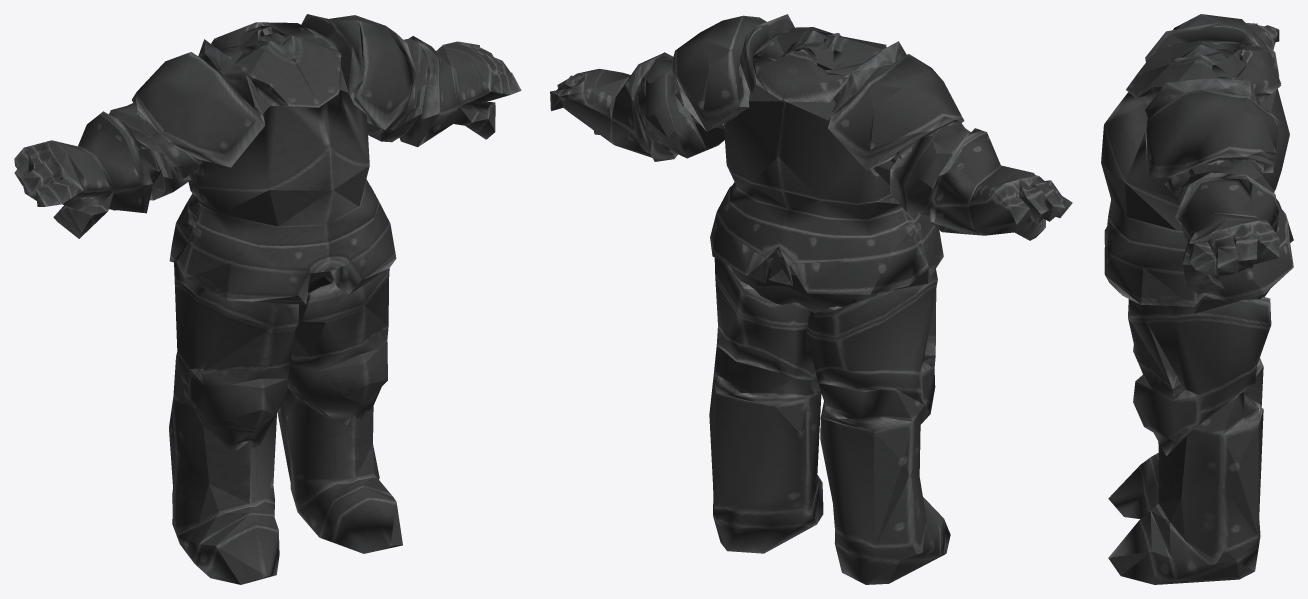
The model's file is plateArmor.glb.
3 renders of one model, left to right at view 1: azimuth 30°, elevation 25°; view 2: azimuth 150°, elevation 25°; view 3: azimuth 270°, elevation 25°, orthographic. The views are drawn at different scales.
Parts seen in each view (by area): view 1: output_unwrapped; view 2: output_unwrapped; view 3: output_unwrapped.
Part boxes in pixels (bbox=[...]): output_unwrapped: bbox=[14, 14, 521, 584]; output_unwrapped: bbox=[550, 14, 1072, 584]; output_unwrapped: bbox=[1101, 14, 1293, 584].
Bounding box in the file's own units: 20.77 × 20.5 × 7.3.
1 material, 1 textured.
